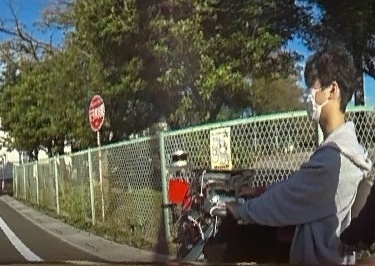person: (226, 40, 358, 266)
